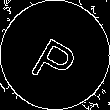P_NE: (26, 24, 84, 86)
